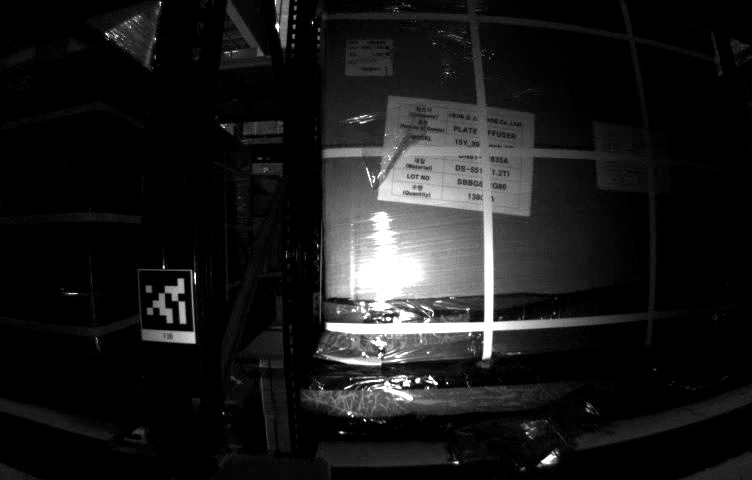True Barcode: (346, 39, 395, 78)
